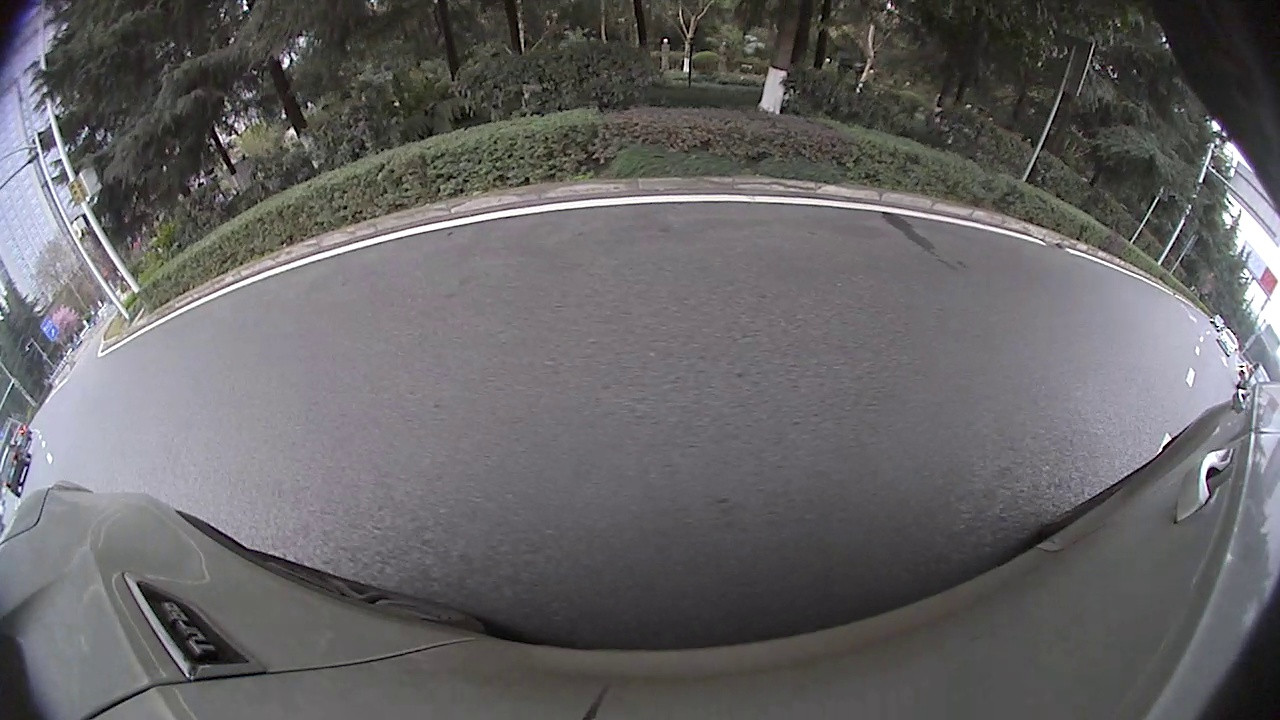car: (1, 441, 34, 498), (1236, 363, 1269, 391), (1215, 327, 1238, 358)
